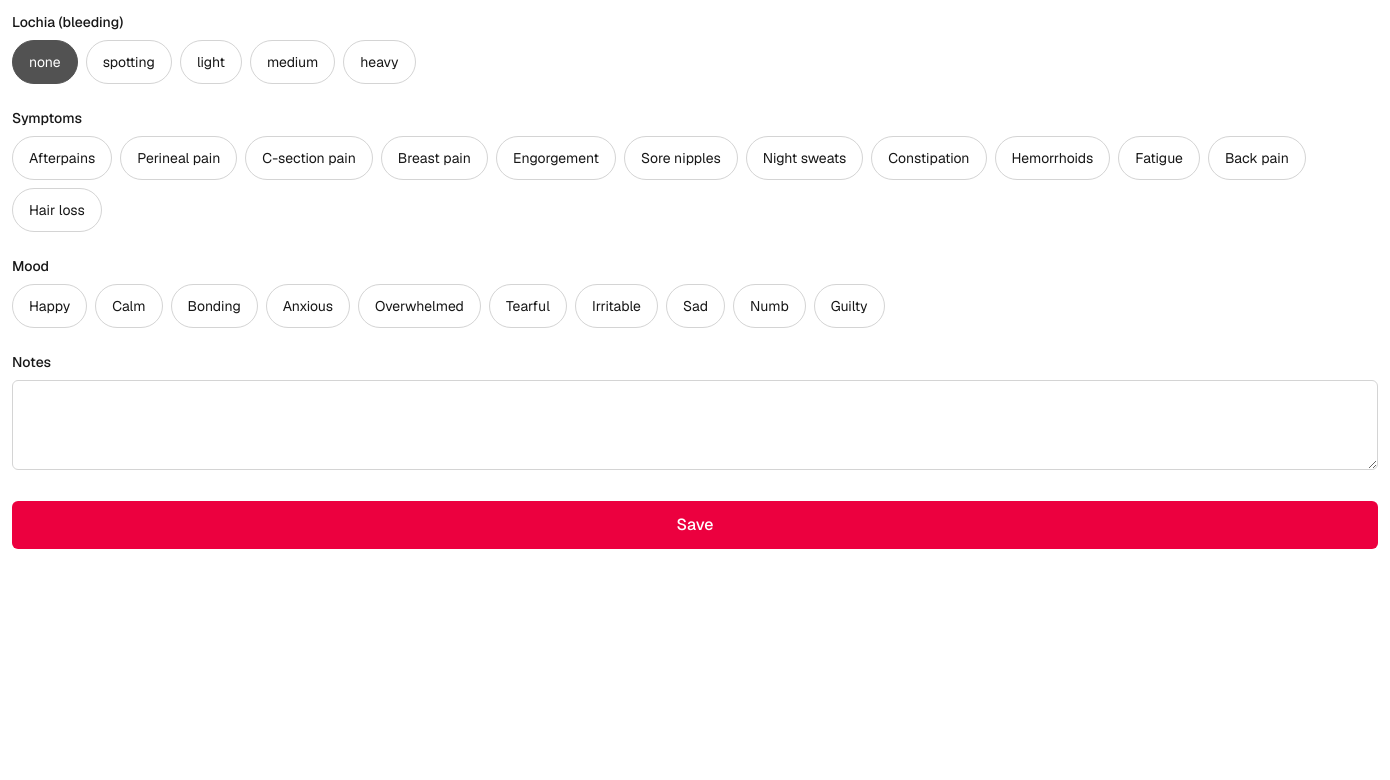
it: DailyLogForm postpartum › saves lochia and never starts a cycle
Click the button "medium": click(293, 62) [250, 40, 335, 84]
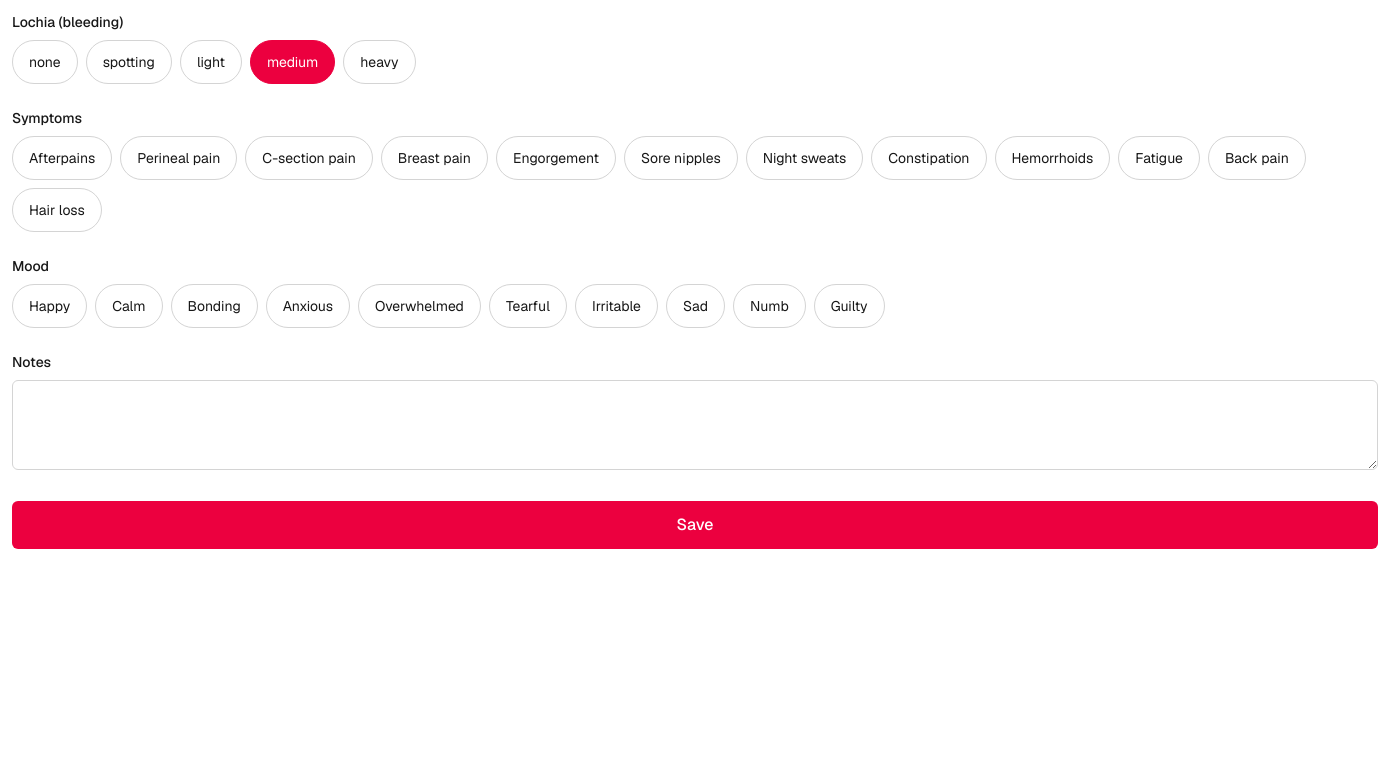
Click the button "Save": click(695, 525) [12, 501, 1378, 549]
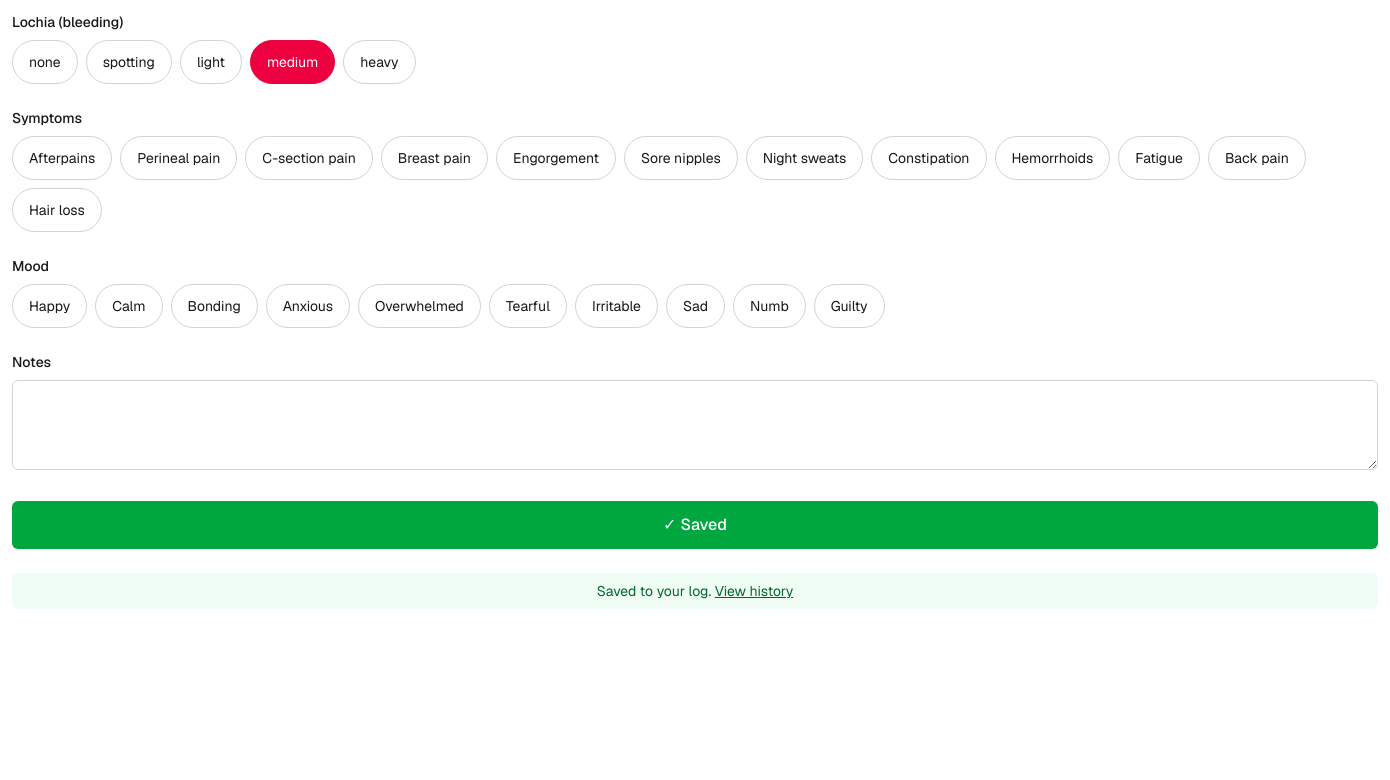
Result: the message "Saved to your log. View history" is shown at [12, 573, 1378, 609]
